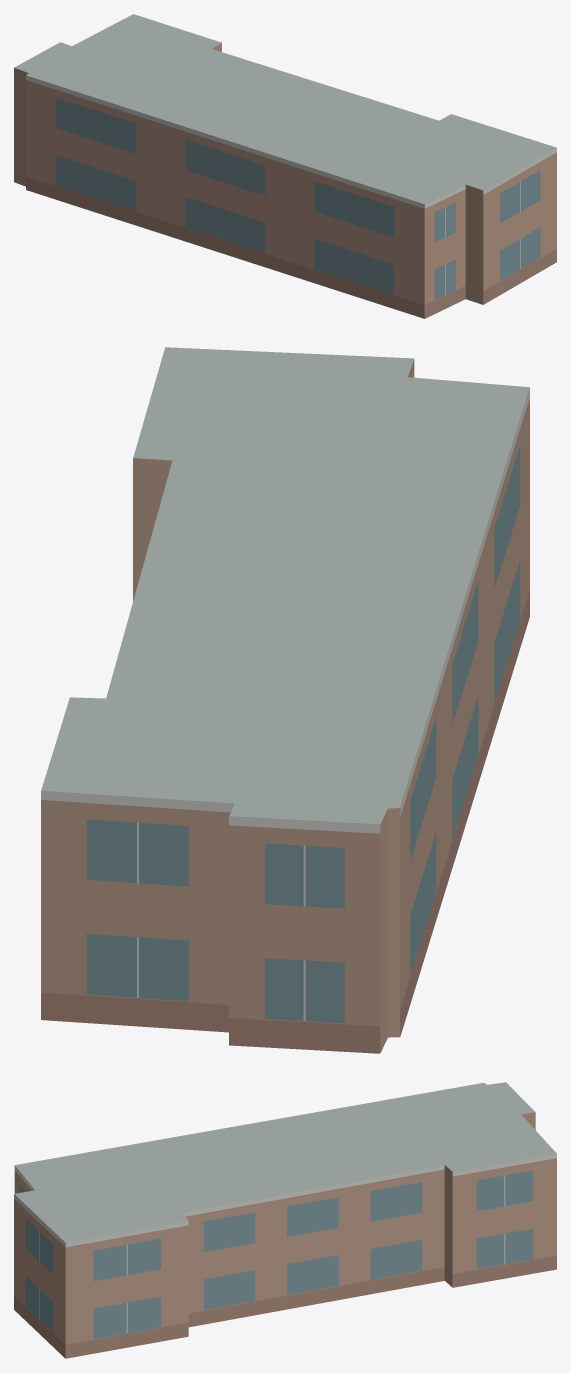
The model's file is survey-upis-32608681.glb.
3 renders of one model, top to bottom at view 1: azimuth 30°, elevation 25°; view 2: azimuth 150°, elevation 25°; view 3: azimuth 270°, elevation 25°, orthographic. The views are drawn at different scales.
Parts seen in each view (by area): view 1: survey-upis-32608681.tmp; view 2: survey-upis-32608681.tmp; view 3: survey-upis-32608681.tmp.
Boxes of the visible parts, box(x1,y1,x2,y2) form: survey-upis-32608681.tmp: box(14, 14, 556, 318); survey-upis-32608681.tmp: box(41, 347, 529, 1053); survey-upis-32608681.tmp: box(14, 1082, 556, 1358).
Bounding box in the file's own units: 18.13 × 6.1 × 25.89.
